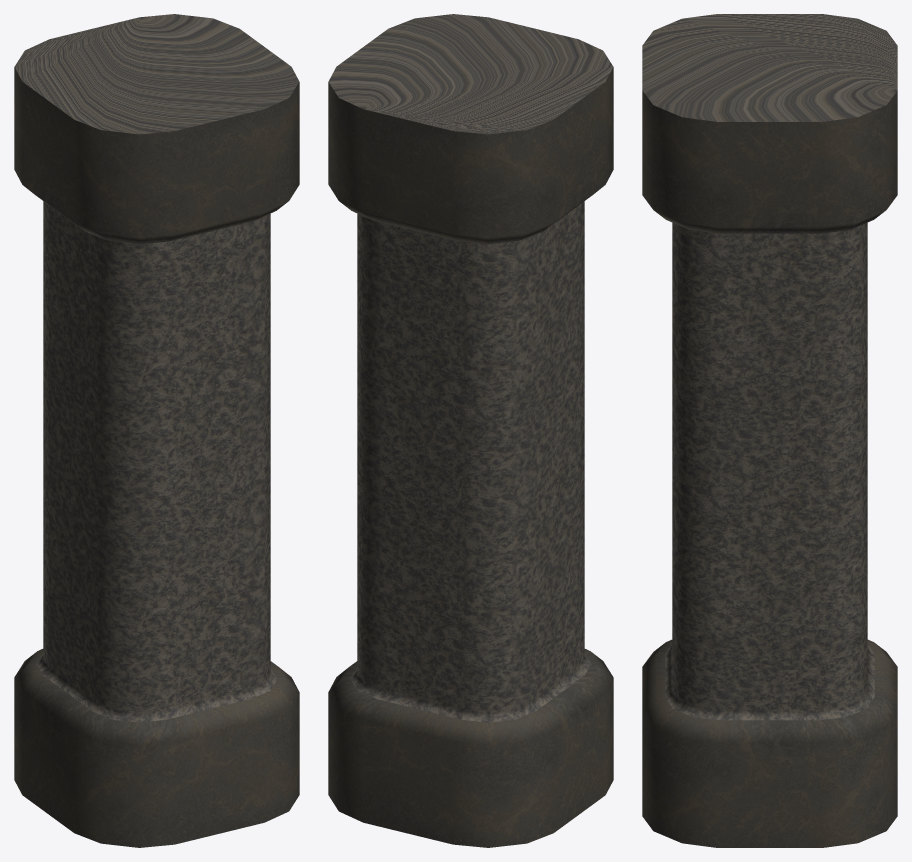
Rendered from SM_Pillar.fbx.
3 views of the same model, side by side, from view 1: azimuth 30°, elevation 25°; view 2: azimuth 150°, elevation 25°; view 3: azimuth 270°, elevation 25° (orthographic).
Visible parts, largest first — view 1: Pillar; view 2: Pillar; view 3: Pillar.
Boxes of the visible parts, x1=… form: Pillar: x1=14, y1=14, x2=299, y2=847; Pillar: x1=328, y1=14, x2=613, y2=847; Pillar: x1=642, y1=14, x2=897, y2=847.
Size of the model in its own units: 127 by 400 by 127.
